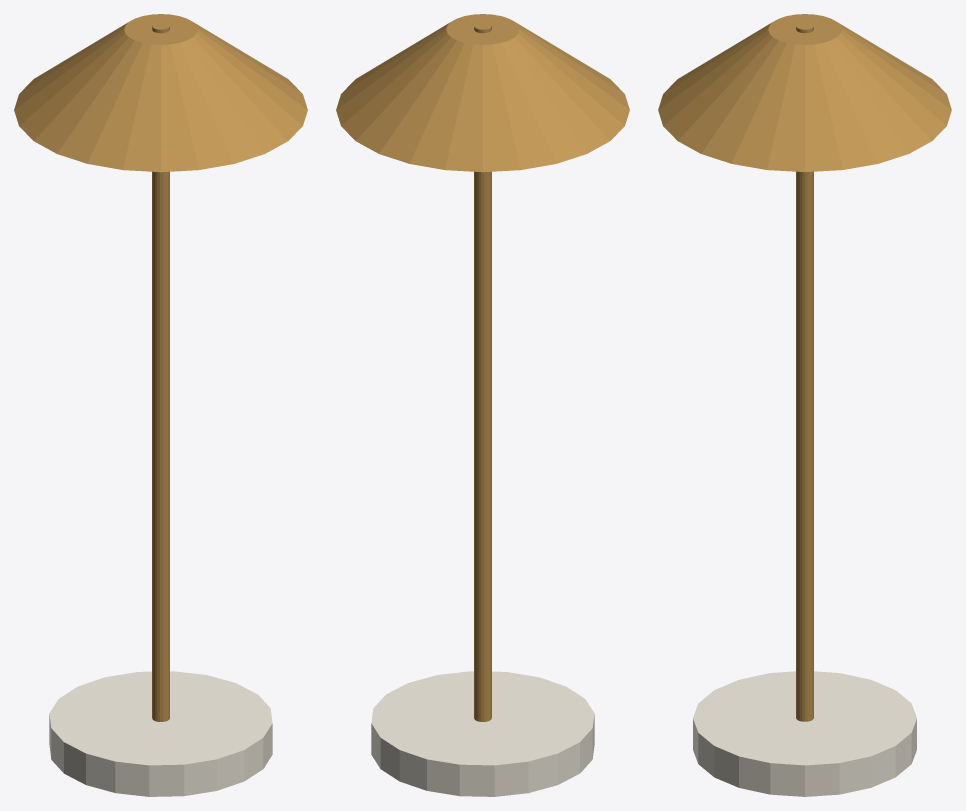
File: best.glb
The picture shows the model from 3 angles, left to right: view 1: azimuth 30°, elevation 25°; view 2: azimuth 150°, elevation 25°; view 3: azimuth 270°, elevation 25°; orthographic projection.
Visible parts, largest first — view 1: Native component 1, Native component 0; view 2: Native component 1, Native component 0; view 3: Native component 1, Native component 0.
Boxes of the visible parts, x1,y1,x2,y2 form: Native component 1: (14, 14, 307, 721); Native component 0: (49, 671, 272, 796); Native component 1: (336, 14, 629, 721); Native component 0: (371, 671, 594, 796); Native component 1: (658, 14, 951, 721); Native component 0: (693, 671, 916, 796).
Size of the model in its own units: 0.76 by 2.06 by 0.76.
